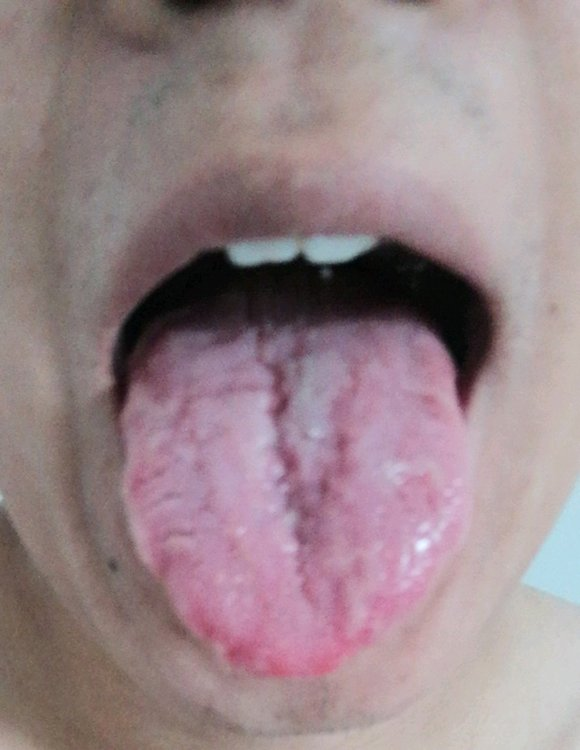baitaishe: (119, 274, 468, 680)
botaishe: (373, 462, 461, 596)
liewenshe: (247, 312, 344, 601)
